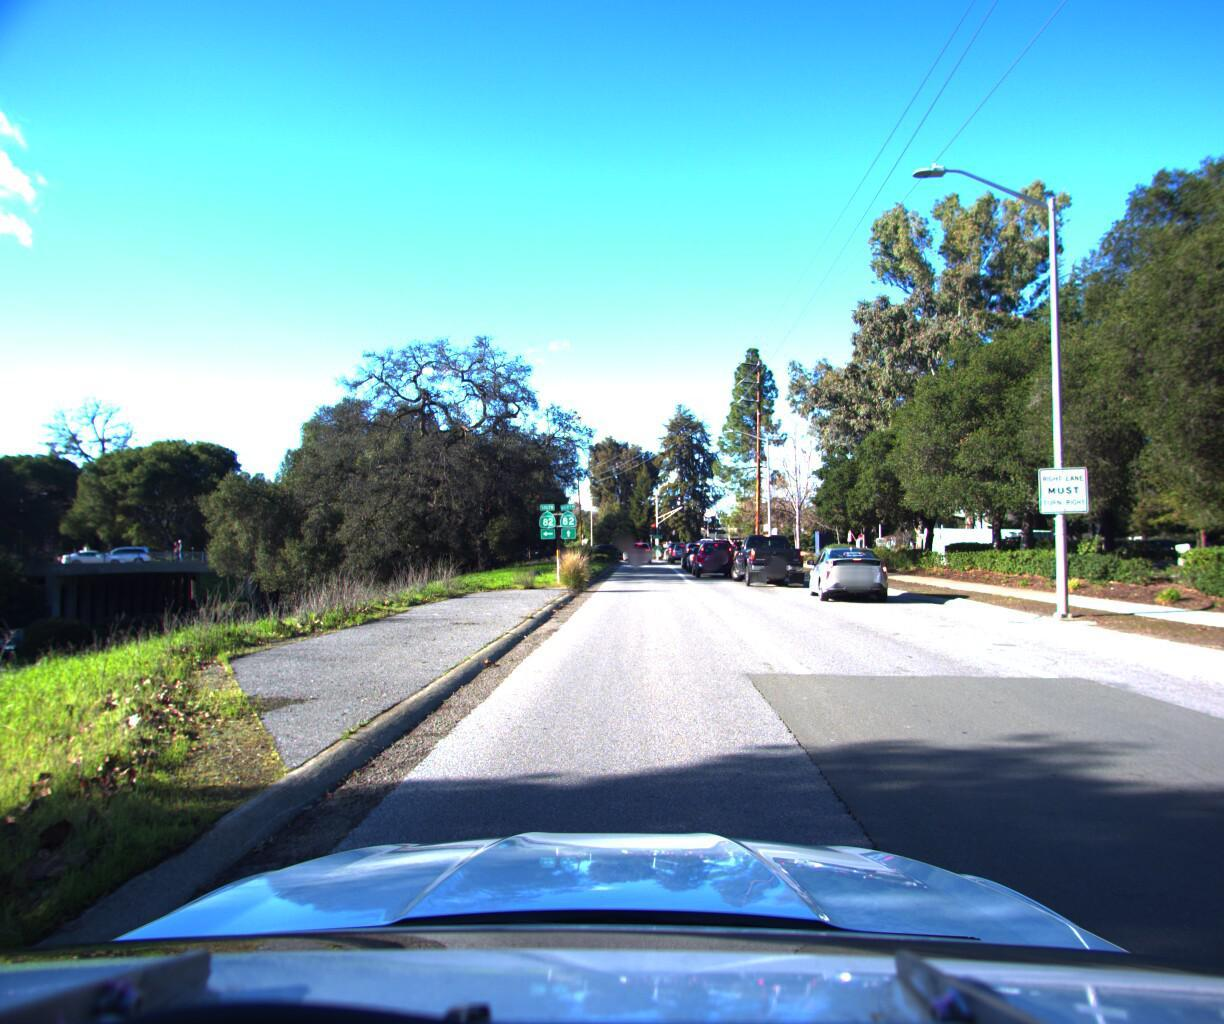car: (805, 540, 898, 601), (729, 526, 813, 583), (0, 631, 60, 675), (689, 534, 740, 575), (64, 546, 127, 567), (98, 545, 157, 564), (682, 541, 713, 567), (661, 535, 689, 558), (625, 536, 650, 561)
